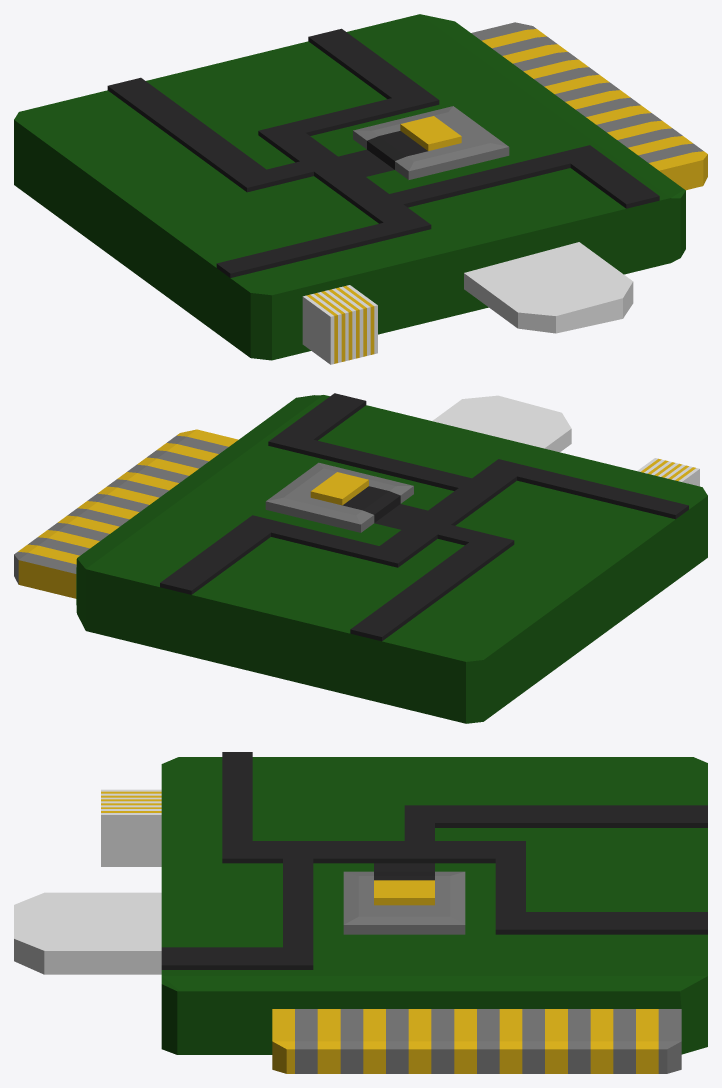
File: RepairComponent.fbx
3 renders of one model, top to bottom at view 1: azimuth 30°, elevation 25°; view 2: azimuth 150°, elevation 25°; view 3: azimuth 270°, elevation 25°, orthographic. The views are drawn at different scales.
Parts seen in each view (by area): view 1: Cube; view 2: Cube; view 3: Cube.
Part boxes in pixels (x1,y1,x2,y2): Cube: (14, 14, 707, 364); Cube: (14, 393, 707, 723); Cube: (14, 752, 707, 1073).
Bounding box in the file's own units: 95.52 × 14.86 × 104.
